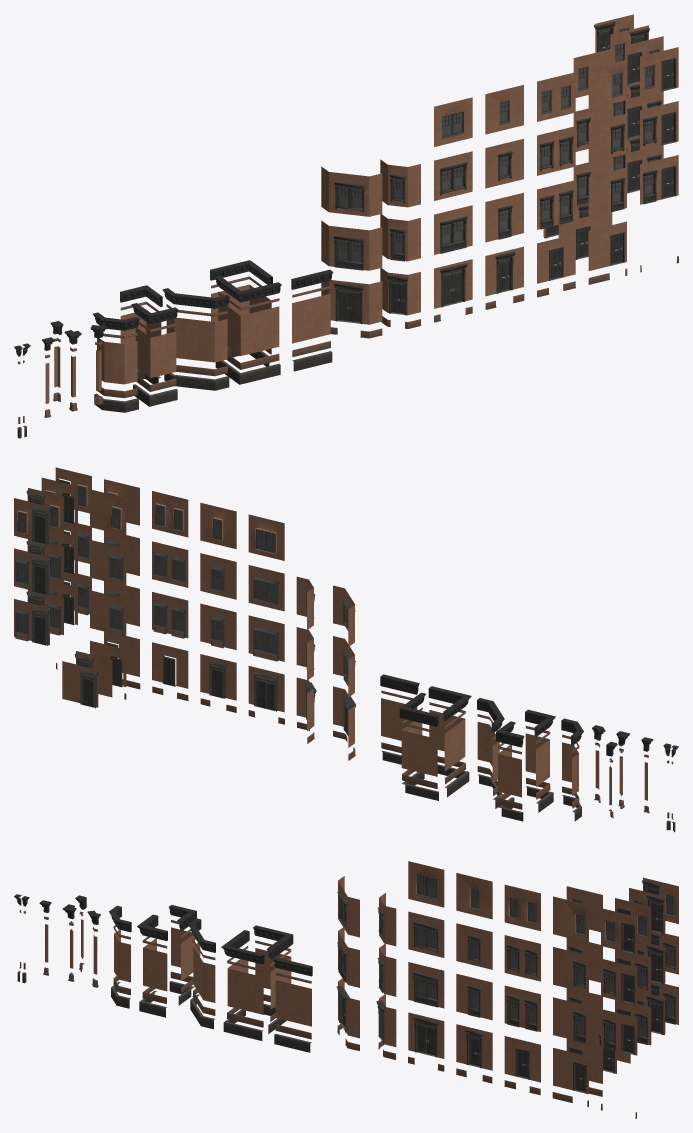
The model's file is modular_urban_apartments_facade.glb.
3 renders of one model, top to bottom at view 1: azimuth 30°, elevation 25°; view 2: azimuth 150°, elevation 25°; view 3: azimuth 330°, elevation 25°, orthographic. The views are drawn at different scales.
Parts seen in each view (by area): view 1: wall_standard_corner_large_01, wall_standard_angled_large_01, wall_window_angled_large_02, wall_window_angled_large_01, wall_standard_corner_small_01, wall_standard_standard_01, wall_standard_angled_small_01, wall_window_offset_small_05, wall_window_centered_small_03, wall_window_centered_small_02, wall_door_angled_large_01, wall_window_angled_small_02 (+38 smaller); view 2: wall_standard_corner_large_02, wall_standard_corner_large_01, wall_window_offset_small_06, wall_window_centered_small_03, wall_window_centered_small_02, wall_window_offset_small_04, wall_window_centered_small_01, wall_window_offset_small_02, wall_window_centered_double_03, wall_door_centered_small_02, wall_window_centered_large_03, door_window_small_04 (+37 smaller); view 3: wall_standard_corner_large_01, wall_standard_standard_01, wall_window_centered_small_03, wall_window_offset_small_05, wall_window_centered_small_02, wall_window_offset_small_03, wall_window_centered_small_01, wall_window_centered_double_03, wall_door_centered_small_02, wall_standard_corner_small_01, wall_window_offset_small_01, wall_window_centered_large_03 (+58 smaller).
Boxes of the visible parts, box(x1,y1,x2,y2) form: wall_standard_corner_large_01: box(218, 306, 279, 355); wall_standard_angled_large_01: box(166, 317, 227, 362); wall_window_angled_large_02: box(321, 166, 382, 216); wall_window_angled_large_01: box(321, 220, 382, 270); wall_standard_corner_small_01: box(135, 328, 176, 377); wall_standard_standard_01: box(292, 294, 330, 343); wall_standard_angled_small_01: box(97, 338, 137, 384); wall_window_offset_small_05: box(588, 59, 626, 109); wall_window_centered_small_03: box(485, 85, 523, 134); wall_window_centered_small_02: box(485, 139, 523, 188); wall_door_angled_large_01: box(321, 280, 382, 324); wall_window_angled_small_02: box(380, 159, 420, 207); wall_standard_corner_large_02: box(401, 721, 437, 776); wall_standard_corner_large_01: box(429, 710, 465, 771); wall_window_offset_small_06: box(90, 489, 126, 535); wall_window_centered_small_03: box(200, 502, 236, 549); wall_window_centered_small_02: box(200, 553, 236, 599); wall_window_offset_small_04: box(90, 540, 126, 586); wall_window_centered_small_01: box(200, 603, 236, 649); wall_window_offset_small_02: box(90, 590, 126, 636); wall_window_centered_double_03: box(152, 491, 188, 537); wall_door_centered_small_02: box(152, 642, 188, 688); wall_window_centered_large_03: box(248, 514, 284, 560); door_window_small_04: box(14, 605, 51, 645); wall_standard_corner_large_01: box(227, 959, 263, 1014); wall_standard_standard_01: box(275, 980, 311, 1026); wall_window_centered_small_03: box(456, 873, 492, 919); wall_window_offset_small_05: box(553, 896, 588, 942); wall_window_centered_small_02: box(456, 923, 492, 969); wall_window_offset_small_03: box(553, 947, 588, 993); wall_window_centered_small_01: box(456, 973, 492, 1020); wall_window_centered_double_03: box(504, 884, 540, 930); wall_door_centered_small_02: box(504, 1036, 540, 1082); wall_standard_corner_small_01: box(143, 938, 167, 991); wall_window_offset_small_01: box(553, 997, 588, 1043); wall_window_centered_large_03: box(408, 861, 444, 907).
Bounding box in the file's own units: 51.53 × 17 × 6.67.
Materials: 5 (5 with a texture image).
